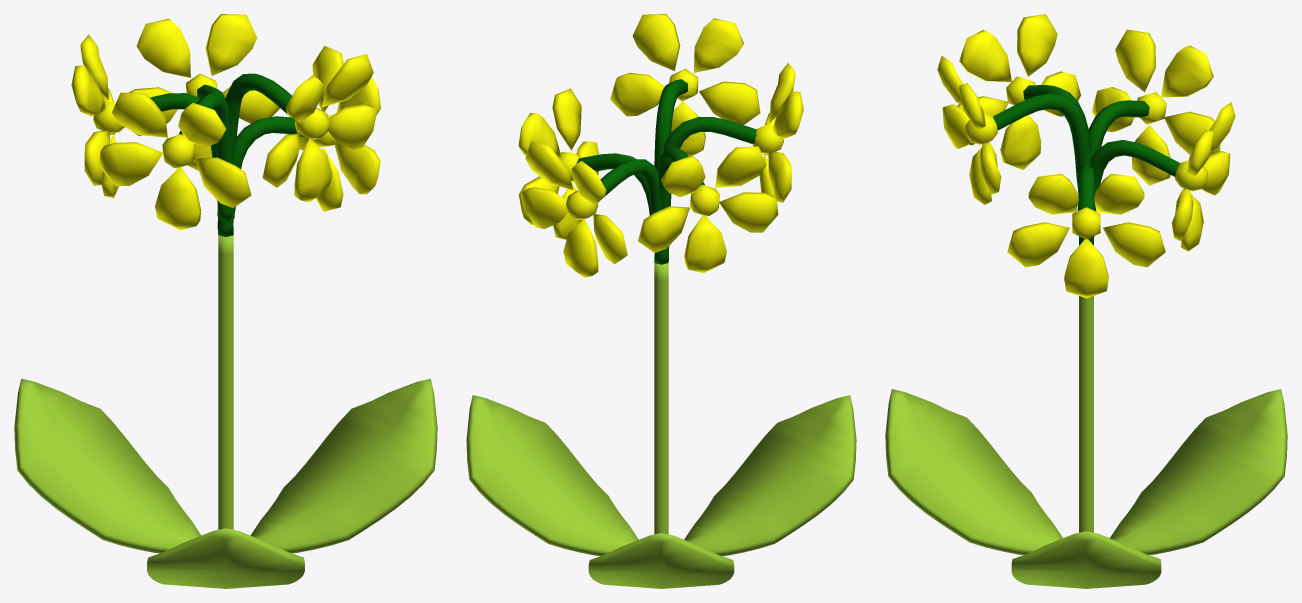
The model's file is primrose_0002.obj.
The picture shows the model from 3 angles, left to right: view 1: azimuth 30°, elevation 25°; view 2: azimuth 150°, elevation 25°; view 3: azimuth 270°, elevation 25°; orthographic projection. The views are drawn at different scales.
Visible parts, largest first — view 1: primrose_0002; view 2: primrose_0002; view 3: primrose_0002.
Part boxes in pixels (x1,y1,x2,y2): primrose_0002: [14, 14, 437, 588]; primrose_0002: [466, 14, 856, 588]; primrose_0002: [885, 14, 1287, 588].
Size of the model in its own units: 2.23 by 3.28 by 2.35.
1 material, 1 textured.
